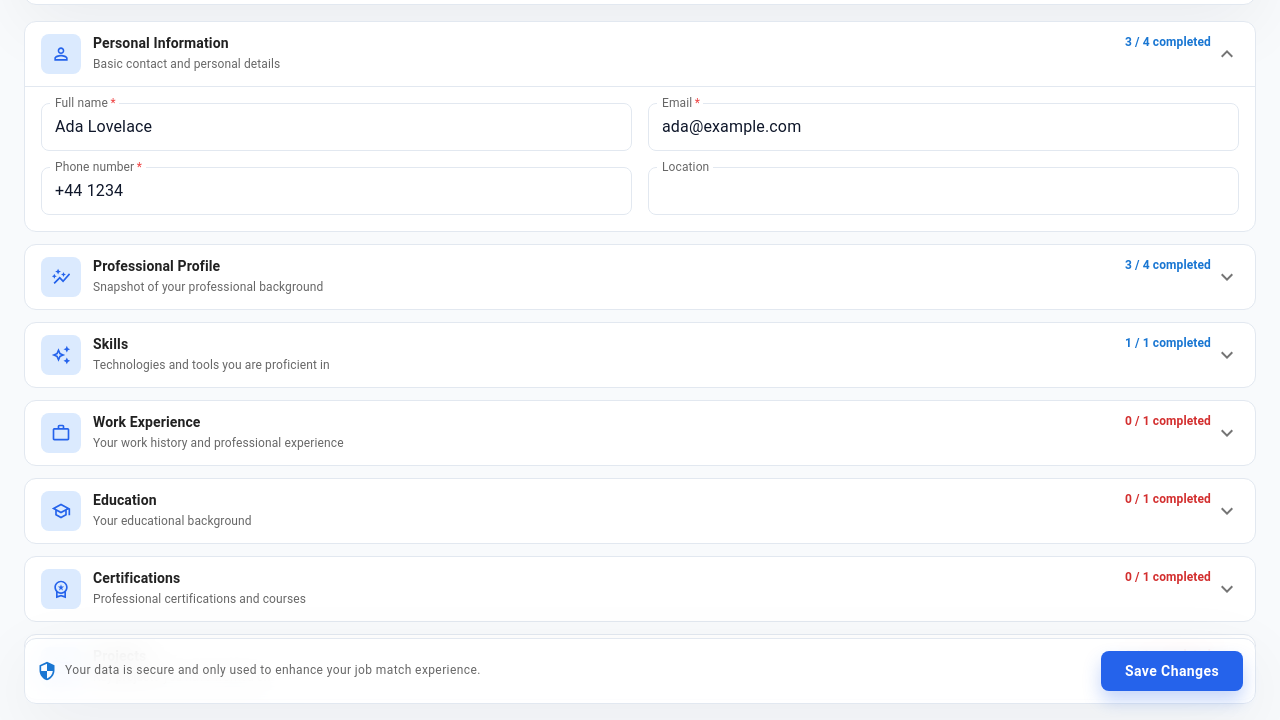
Test: ProfilePage edit mode › submits changes through the update API, shows a success message, and stays on the page
This screenshot has width=1280, height=720.
(page scrolled)
Check: the field labelled "Full name *" holds "Ada Lovelace", box [41,115,632,138]
Submit the form
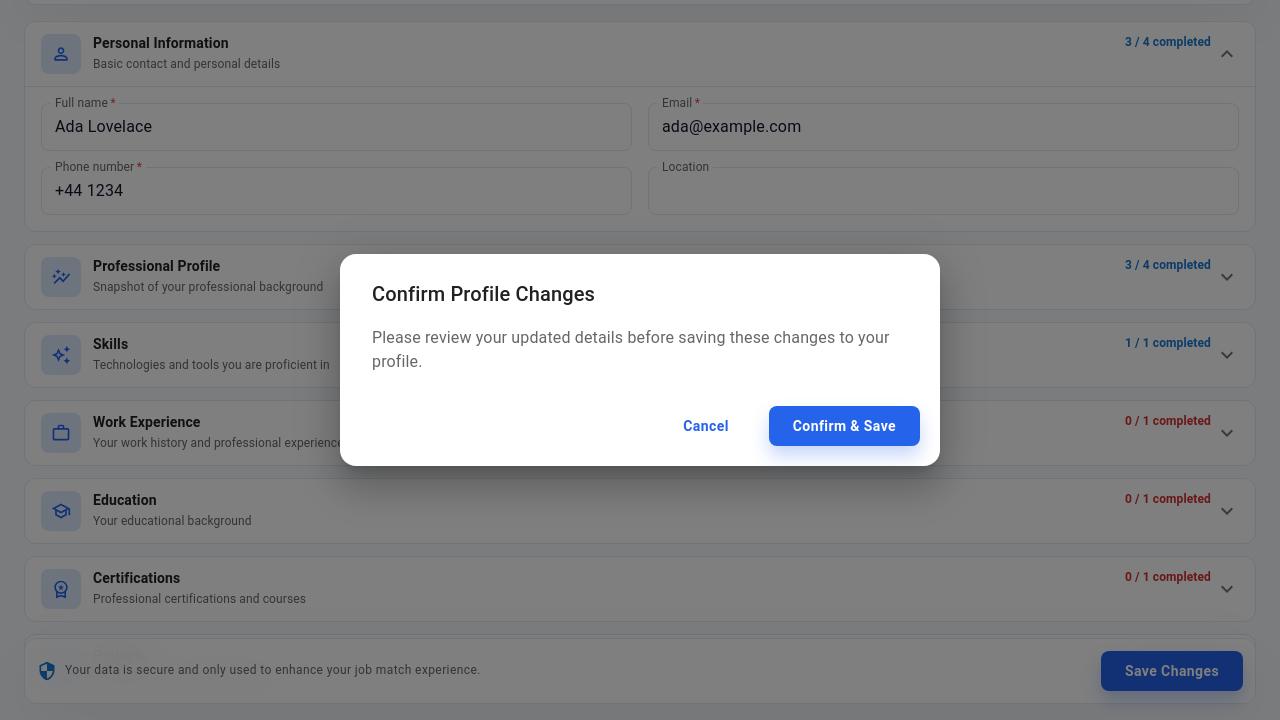
Check: the dialog "Confirm Profile Changes" is shown, box [340,254,940,466]
Click the button "Confirm & Save": (844, 426) [769,406,920,446]
(page scrolled)
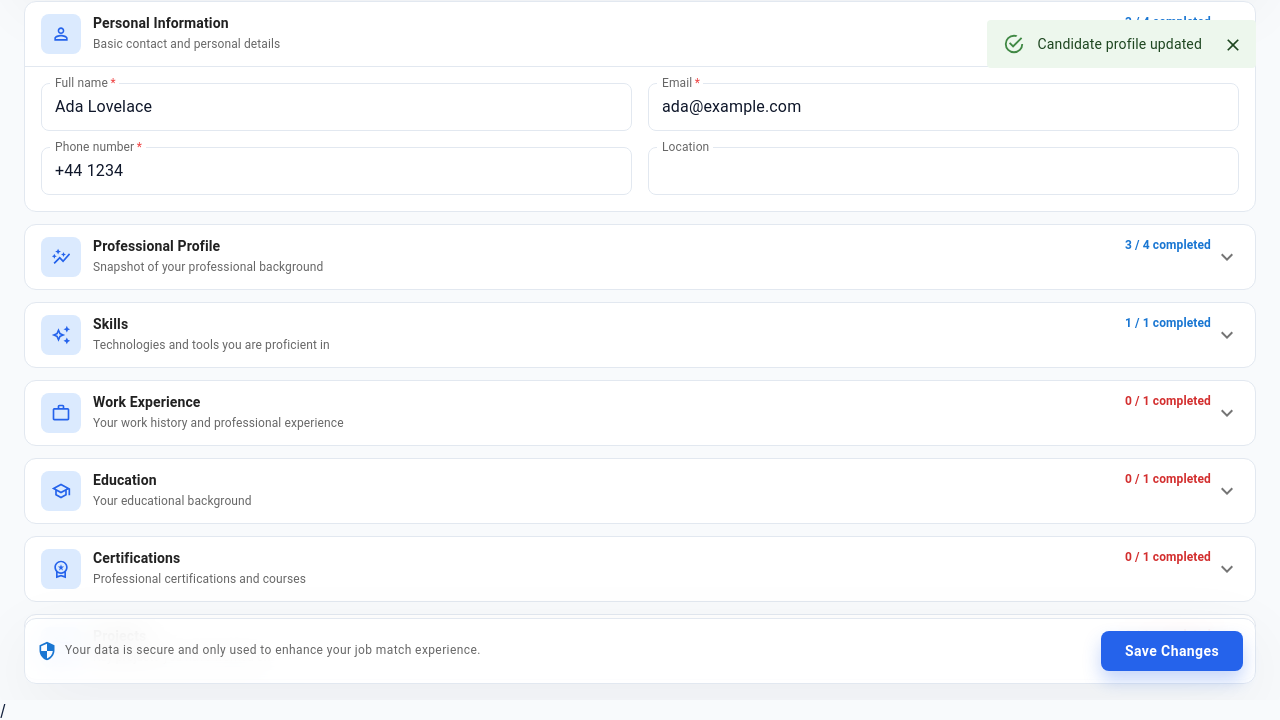
Check: the text with test id "location" reads "/", box [0,700,6,719]
Check: the text "Candidate profile updated" is shown, box [1038,36,1202,52]
